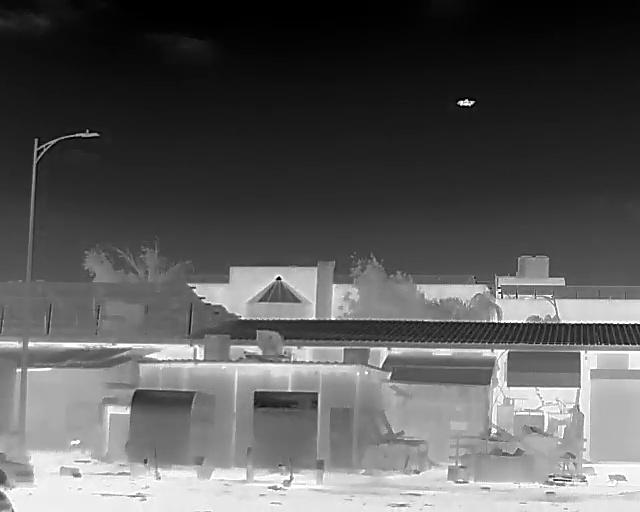fpv-drone: (456, 98, 475, 107)
